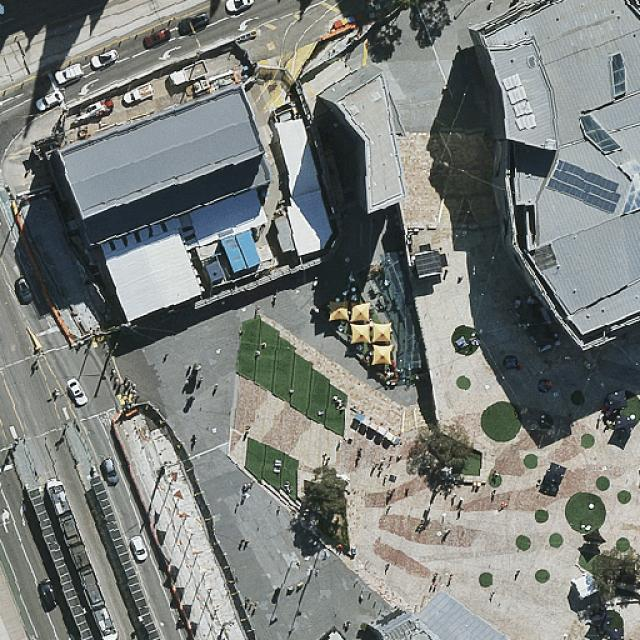Bike-Symbols: (98, 413, 113, 428)
